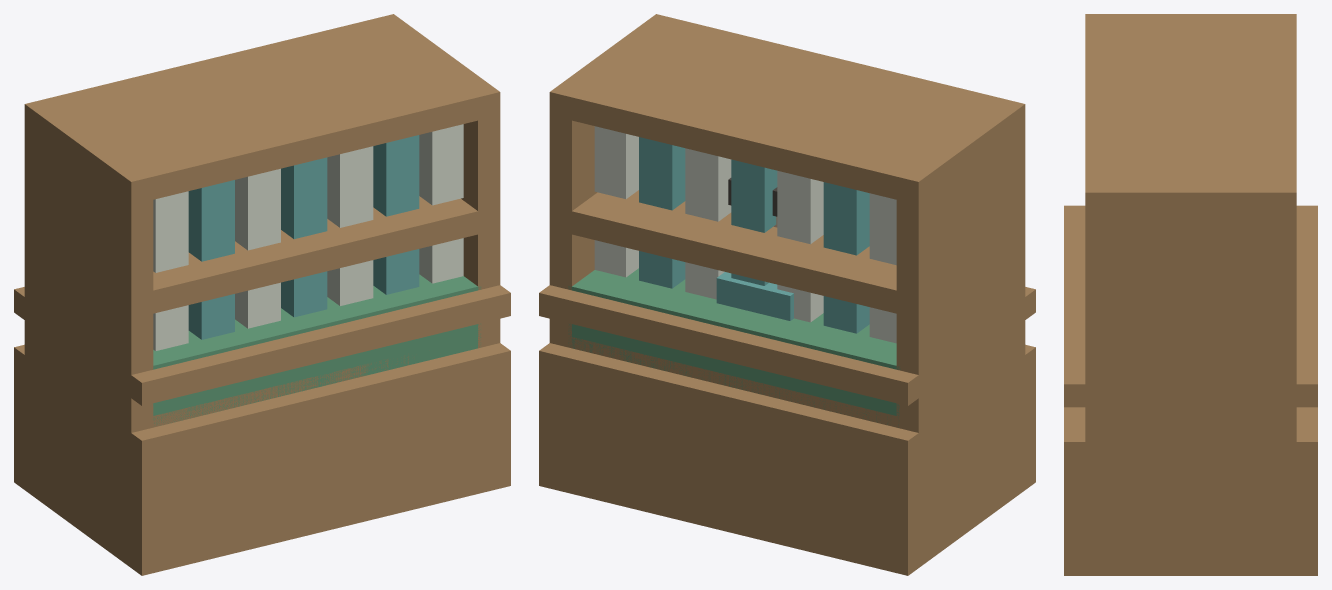
The model's file is school-kit.glb.
3 renders of one model, left to right at view 1: azimuth 30°, elevation 25°; view 2: azimuth 150°, elevation 25°; view 3: azimuth 270°, elevation 25°, orthographic.
Visible parts, largest first — view 1: shelf, planter, desk; view 2: shelf, planter, desk, student; view 3: shelf, planter, desk.
Boxes of the visible parts, <box> form: shelf: <box>24,14,500,567</box>; planter: <box>14,274,510,575</box>; desk: <box>14,285,510,405</box>; shelf: <box>549,14,1025,561</box>; planter: <box>539,268,1035,575</box>; desk: <box>539,285,1035,405</box>; student: <box>716,178,793,320</box>; shelf: <box>1085,14,1296,575</box>; planter: <box>1064,407,1317,575</box>; desk: <box>1064,205,1317,407</box>.
Bounding box in the file's own units: 2 × 2 × 1.2.
